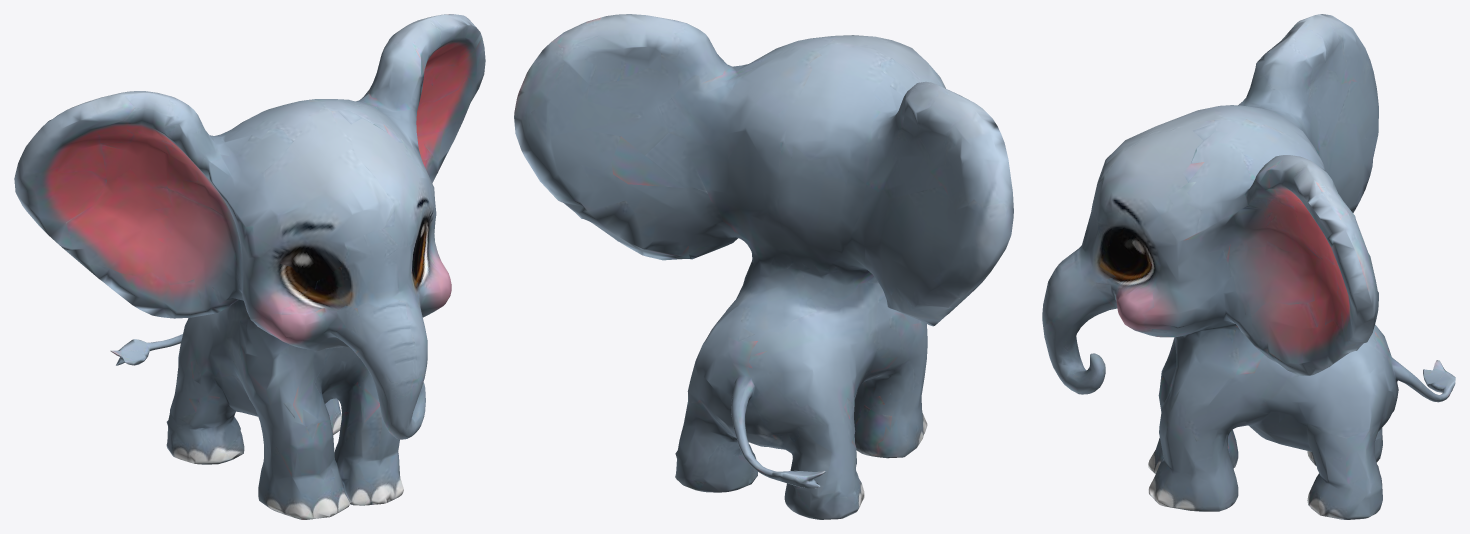
The model's file is elephant.glb.
3 renders of one model, left to right at view 1: azimuth 30°, elevation 25°; view 2: azimuth 150°, elevation 25°; view 3: azimuth 270°, elevation 25°, orthographic. The views are drawn at different scales.
Size of the model in its own units: 1.9 by 1.56 by 1.5.
1 material, 1 textured.
